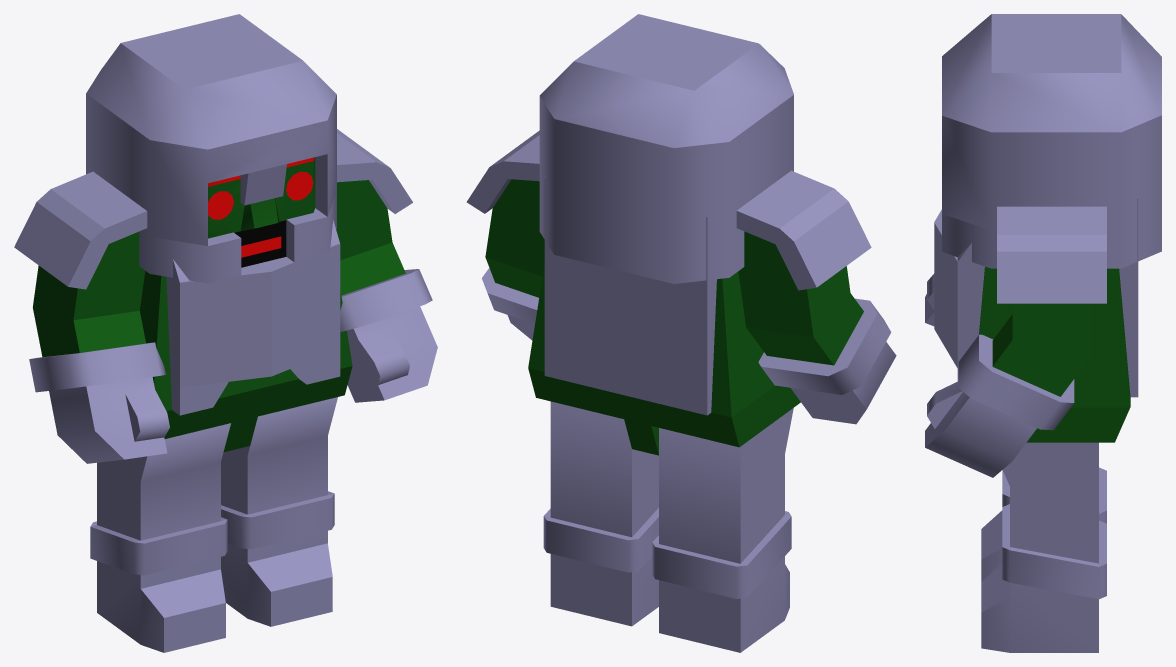
File: Enemy1-1.fbx
The picture shows the model from 3 angles, left to right: view 1: azimuth 30°, elevation 25°; view 2: azimuth 150°, elevation 25°; view 3: azimuth 270°, elevation 25°; orthographic projection.
Parts seen in each view (by area): view 1: mergedBlocks; view 2: mergedBlocks; view 3: mergedBlocks.
Part boxes in pixels (bbox=[...]): mergedBlocks: bbox=[14, 14, 437, 652]; mergedBlocks: bbox=[466, 14, 896, 652]; mergedBlocks: bbox=[925, 14, 1161, 652].
Bounding box in the file's own units: 5.5 × 7.91 × 3.02.
